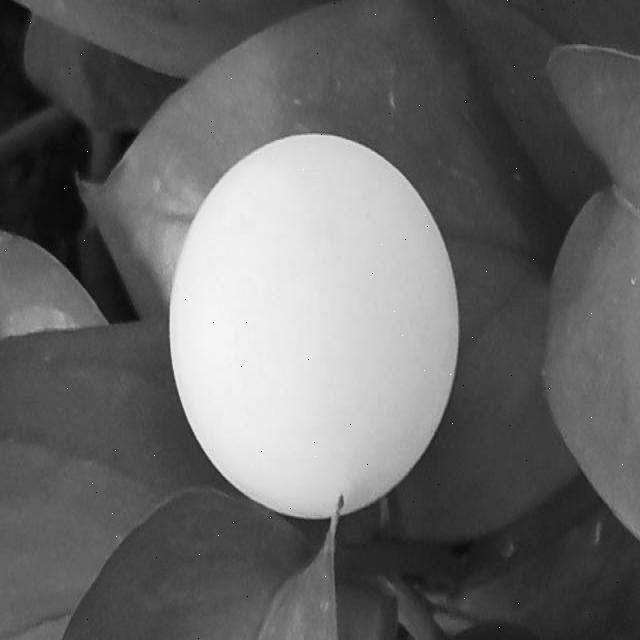ping-pong-ball: (168, 147, 457, 520)
